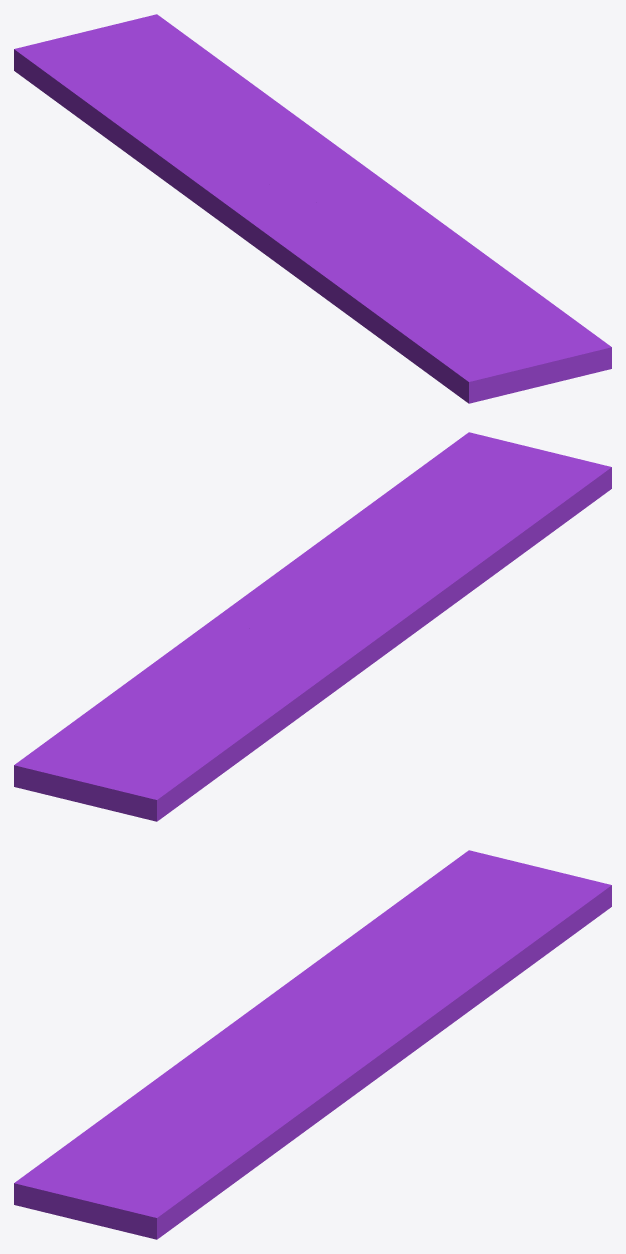
Rendered from StairsStep_55_chunks.fbx.
3 views of the same model, one above another, from view 1: azimuth 30°, elevation 25°; view 2: azimuth 150°, elevation 25°; view 3: azimuth 330°, elevation 25° (orthographic).
Parts seen in each view (by area): view 1: StairsStep_55_6, StairsStep_55_5, StairsStep_55_2, StairsStep_55_8, StairsStep_55_4, StairsStep_55_1, StairsStep_55_9, StairsStep_55_3, StairsStep_55_7; view 2: StairsStep_55_6, StairsStep_55_5, StairsStep_55_2, StairsStep_55_8, StairsStep_55_4, StairsStep_55_1, StairsStep_55_9, StairsStep_55_3, StairsStep_55_7; view 3: StairsStep_55_6, StairsStep_55_5, StairsStep_55_2, StairsStep_55_1, StairsStep_55_8, StairsStep_55_9, StairsStep_55_4, StairsStep_55_3, StairsStep_55_0, StairsStep_55_7.
Part boxes in pixels (left/top/right/bottom): StairsStep_55_6: left=14, top=14, right=280, bottom=139; StairsStep_55_5: left=401, top=261, right=611, bottom=392; StairsStep_55_2: left=235, top=199, right=419, bottom=298; StairsStep_55_8: left=105, top=116, right=279, bottom=232; StairsStep_55_4: left=325, top=273, right=513, bottom=403; StairsStep_55_1: left=305, top=142, right=467, bottom=241; StairsStep_55_9: left=221, top=105, right=331, bottom=177; StairsStep_55_3: left=409, top=226, right=494, bottom=261; StairsStep_55_7: left=259, top=168, right=314, bottom=203; StairsStep_55_6: left=14, top=674, right=251, bottom=821; StairsStep_55_5: left=353, top=432, right=596, bottom=545; StairsStep_55_2: left=319, top=545, right=477, bottom=658; StairsStep_55_8: left=219, top=625, right=378, bottom=751; StairsStep_55_4: left=423, top=463, right=611, bottom=593; StairsStep_55_1: left=189, top=538, right=324, bottom=637; StairsStep_55_9: left=138, top=625, right=277, bottom=683; StairsStep_55_3: left=322, top=517, right=389, bottom=566; StairsStep_55_7: left=271, top=618, right=339, bottom=650; StairsStep_55_6: left=377, top=850, right=611, bottom=1003; StairsStep_55_5: left=29, top=1104, right=272, bottom=1239; StairsStep_55_2: left=148, top=1012, right=306, bottom=1104; StairsStep_55_1: left=301, top=1013, right=436, bottom=1115; StairsStep_55_8: left=248, top=917, right=406, bottom=1024; StairsStep_55_9: left=348, top=966, right=487, bottom=1030; StairsStep_55_4: left=14, top=1085, right=201, bottom=1215; StairsStep_55_3: left=236, top=1083, right=304, bottom=1165; StairsStep_55_0: left=292, top=1037, right=429, bottom=1140; StairsStep_55_7: left=286, top=999, right=469, bottom=1039.
Bounding box in the file's own units: 200 × 28.98 × 1102.
